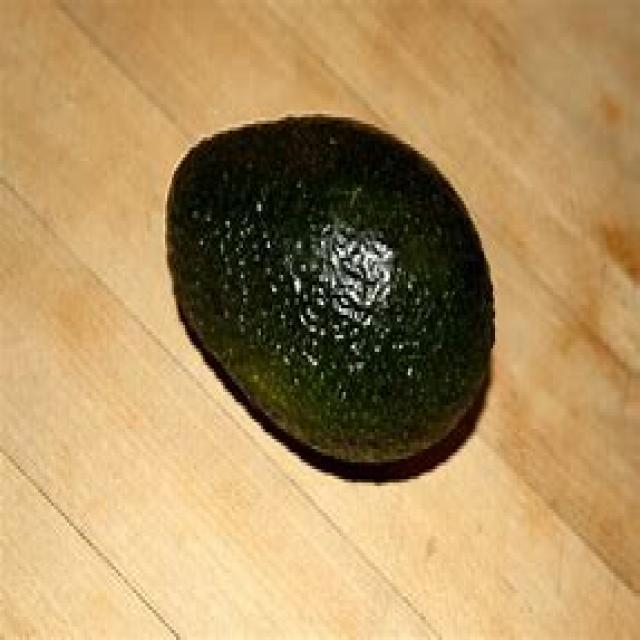avocado: (159, 109, 507, 492)
